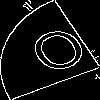O: (24, 25, 98, 83)
